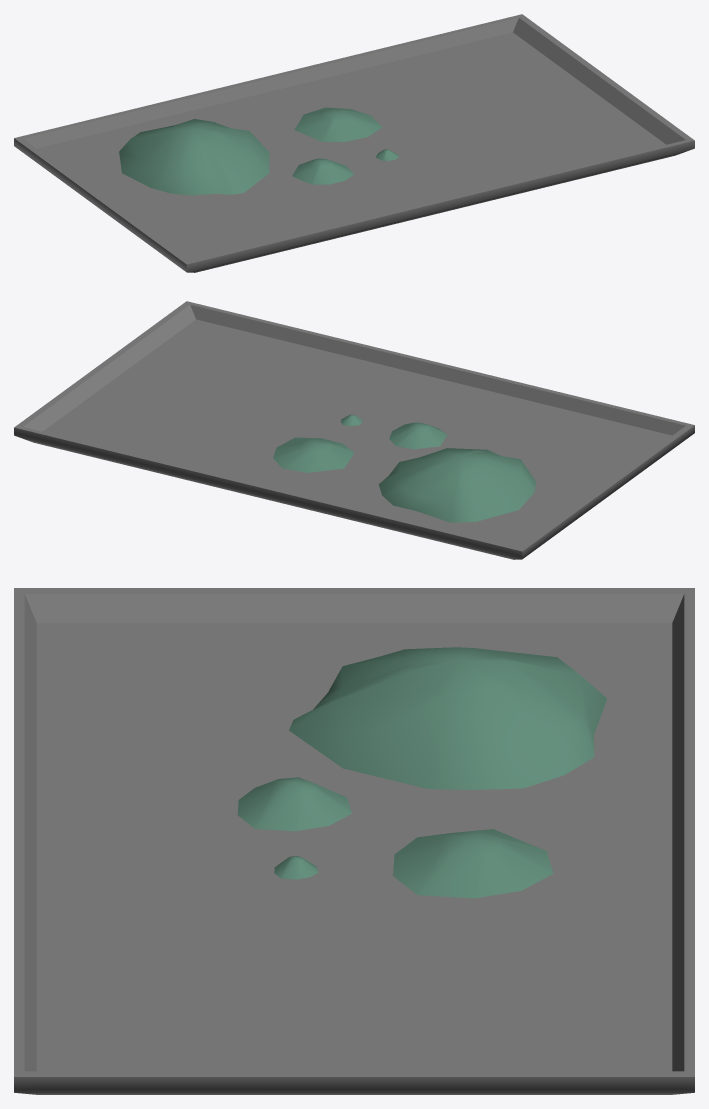
Rendered from Bandeja 1.fbx.
The picture shows the model from 3 angles, top to bottom: view 1: azimuth 30°, elevation 25°; view 2: azimuth 150°, elevation 25°; view 3: azimuth 270°, elevation 25°; orthographic projection. The views are drawn at different scales.
Visible parts, largest first — view 1: pCube3; view 2: pCube3; view 3: pCube3.
Part boxes in pixels (bbox=[...]): pCube3: bbox=[14, 14, 694, 272]; pCube3: bbox=[14, 301, 694, 559]; pCube3: bbox=[14, 588, 694, 1094].
Size of the model in its own units: 110 by 7.99 by 64.98.
